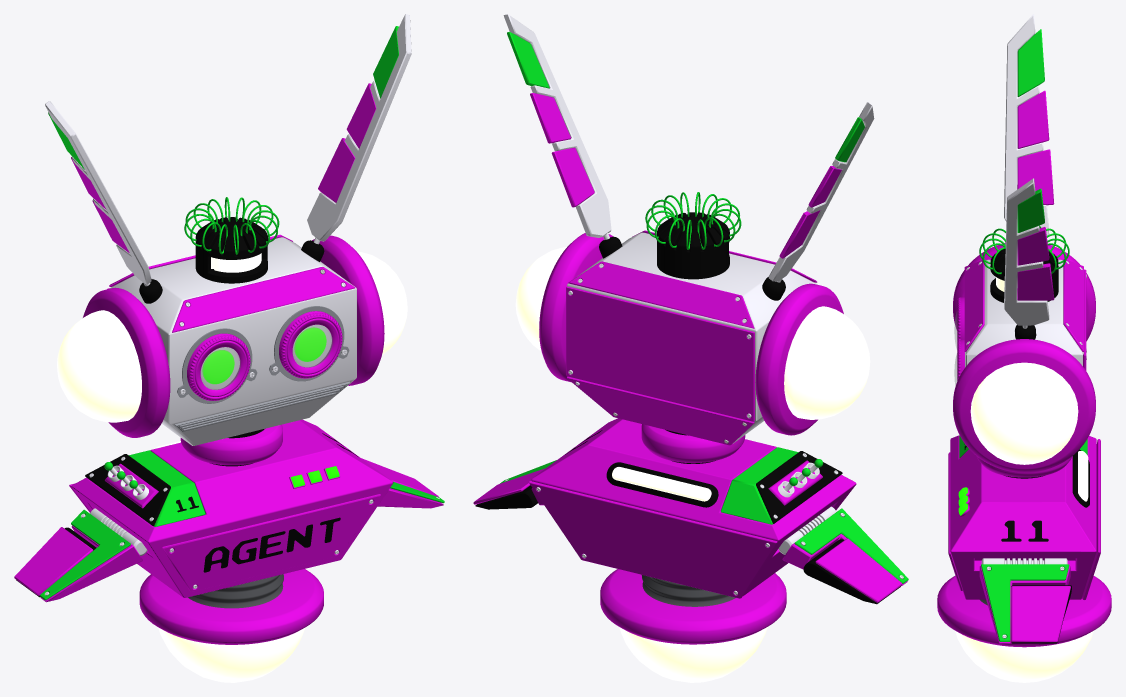
The model's file is bee_bot12_purple.glb.
The picture shows the model from 3 angles, left to right: view 1: azimuth 30°, elevation 25°; view 2: azimuth 150°, elevation 25°; view 3: azimuth 270°, elevation 25°; orthographic projection. The views are drawn at different scales.
Visible parts, largest first — view 1: Purple_body, Purple_wing_right, Purlple_wing_left; view 2: Purple_body, Purple_wing_right, Purlple_wing_left; view 3: Purple_body, Purlple_wing_left.
Part boxes in pixels (box(x1,y1,x2,y2)): Purple_body: box(45, 14, 411, 682); Purple_wing_right: box(14, 508, 147, 602); Purlple_wing_left: box(361, 458, 444, 508); Purple_body: box(503, 14, 874, 682); Purple_wing_right: box(778, 506, 908, 604); Purlple_wing_left: box(473, 460, 556, 509); Purple_body: box(937, 14, 1111, 682); Purlple_wing_left: box(979, 558, 1071, 643).
Size of the model in its own units: 0.698 by 1.02 by 0.278.
